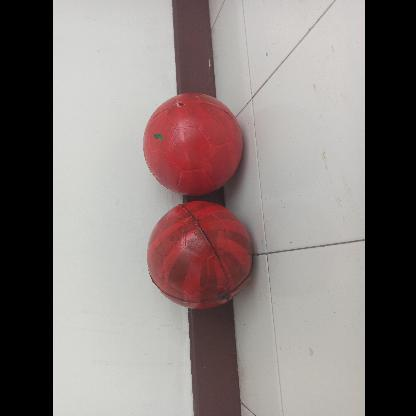red_ball: (144, 203, 250, 309), (138, 93, 240, 194)
